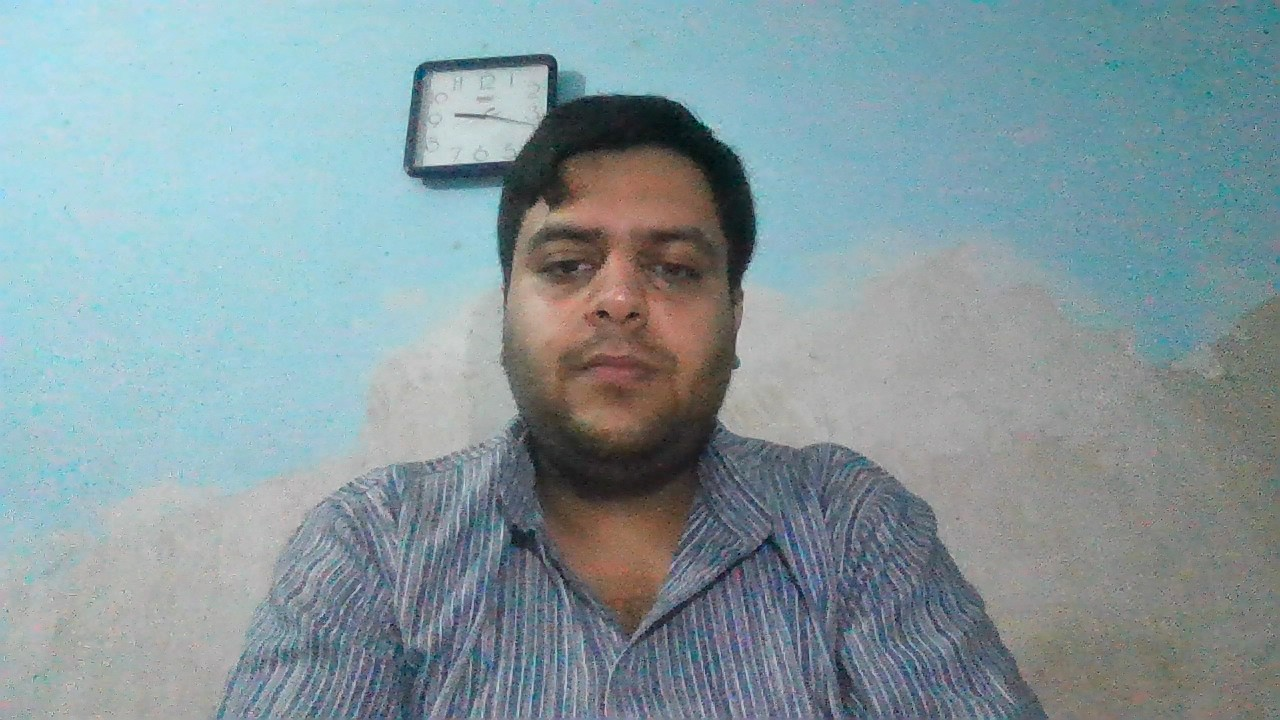No Mask: (497, 287, 746, 461)
